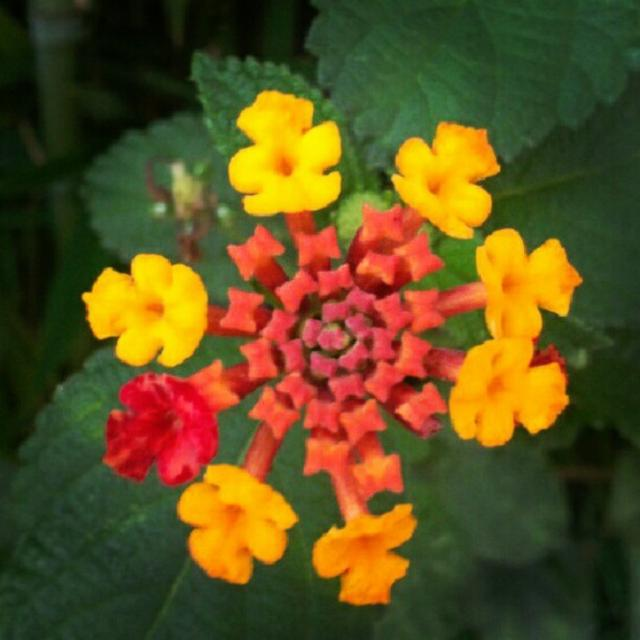Flower: (78, 88, 580, 606)
